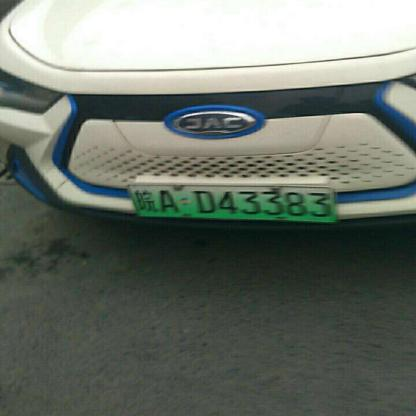lp: (129, 186, 335, 221)
